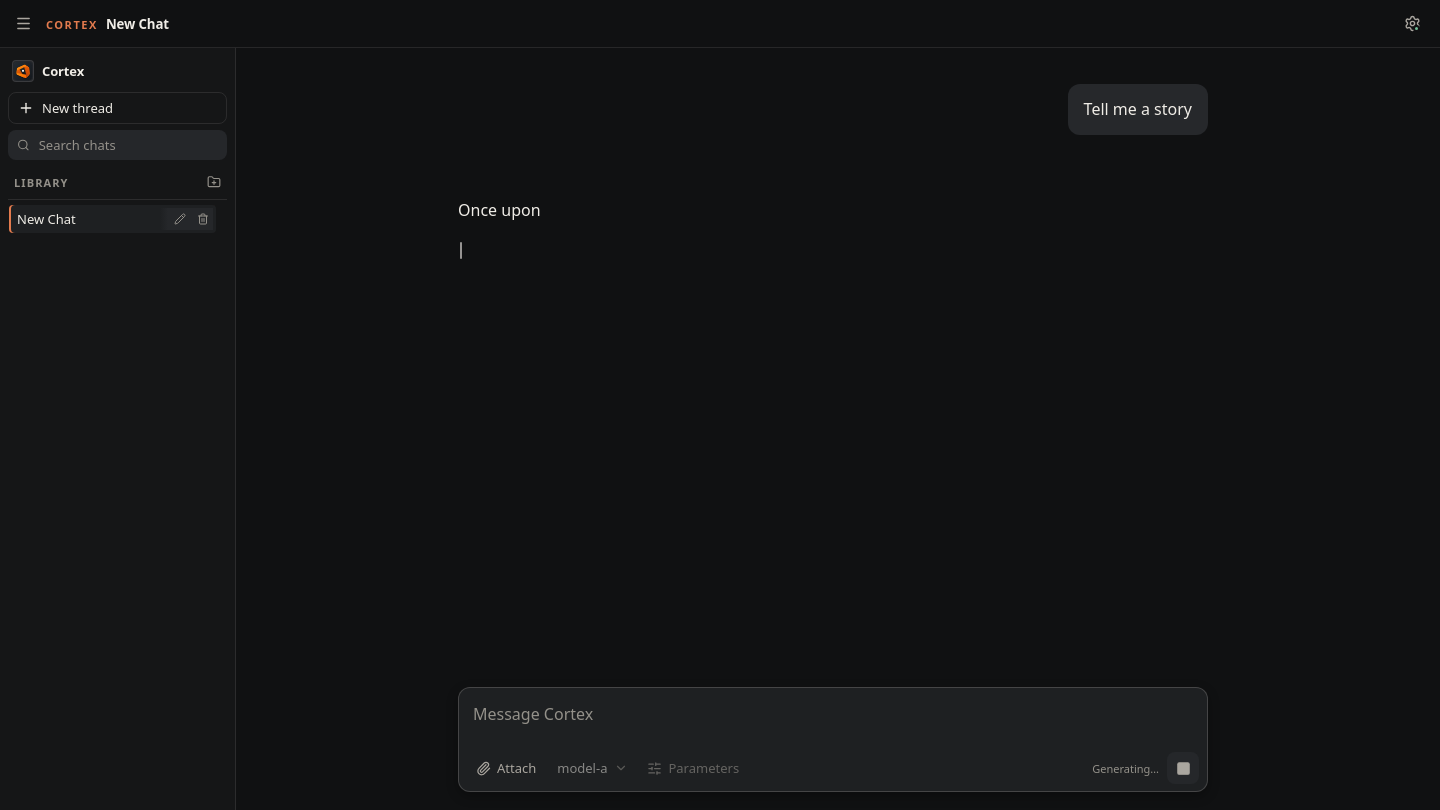
it: a generation while Settings is open › hands the text streamed while away to the bubble on return, without a hole
expect the text "Tell me a story" is shown: met, box [1084,96,1192,123]
Click the link named "Settings" at (1412, 24), box [1404,15,1420,32]
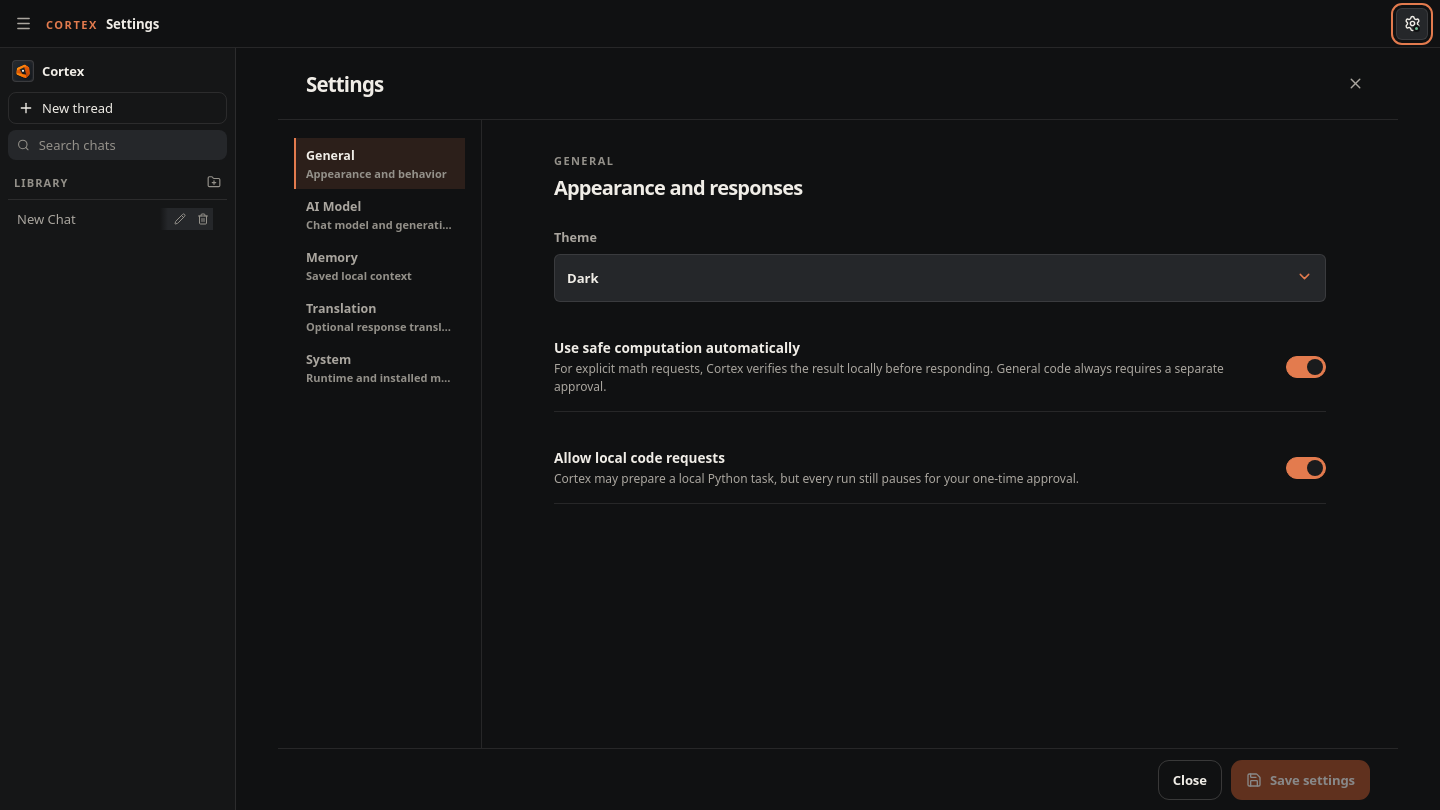
expect the 2nd heading "Settings" is shown: met, box [306,70,383,98]
Click the button named "Close settings" at (1355, 84), box [1340,68,1370,98]
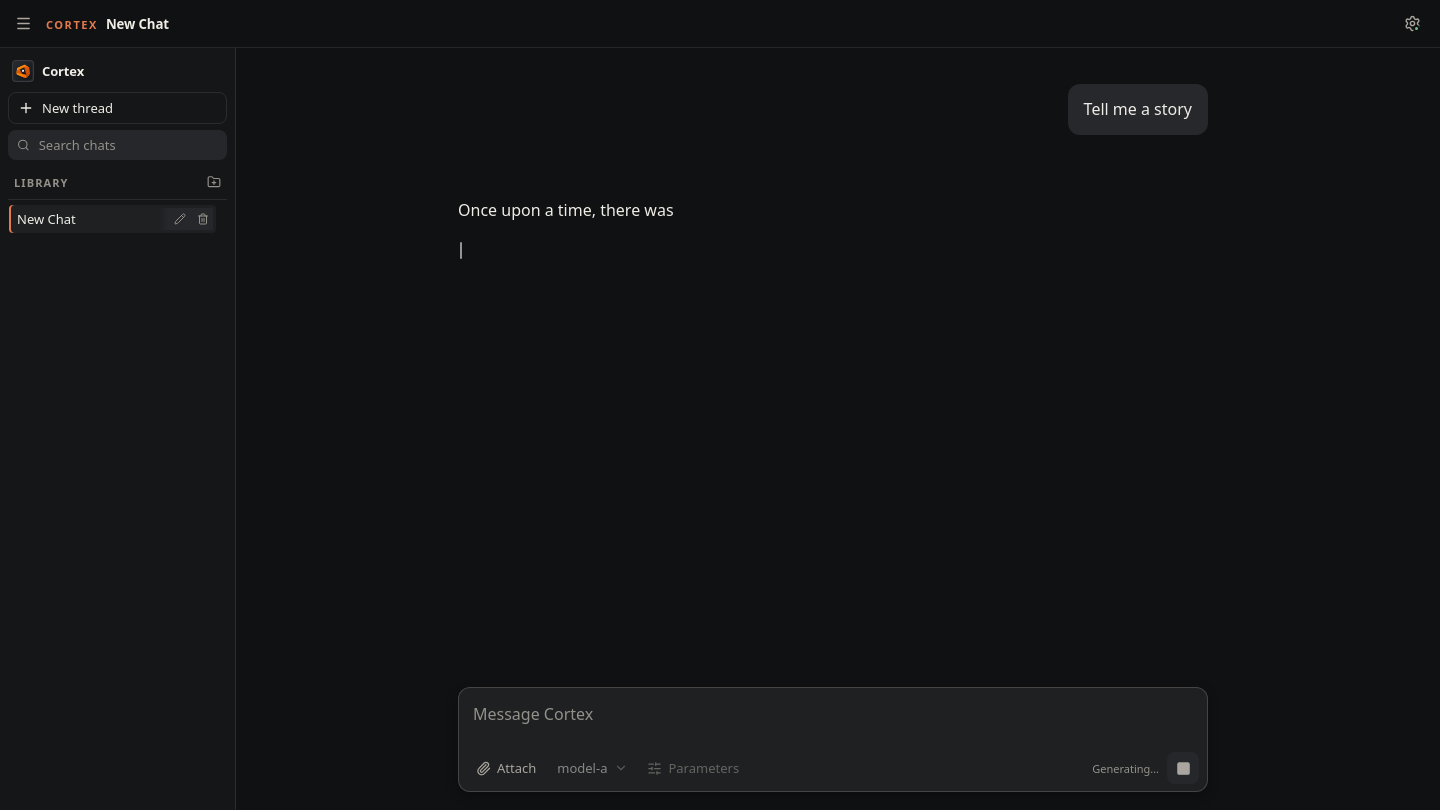
expect the text "Once upon a time, there was" is shown: met, box [458,199,674,221]
